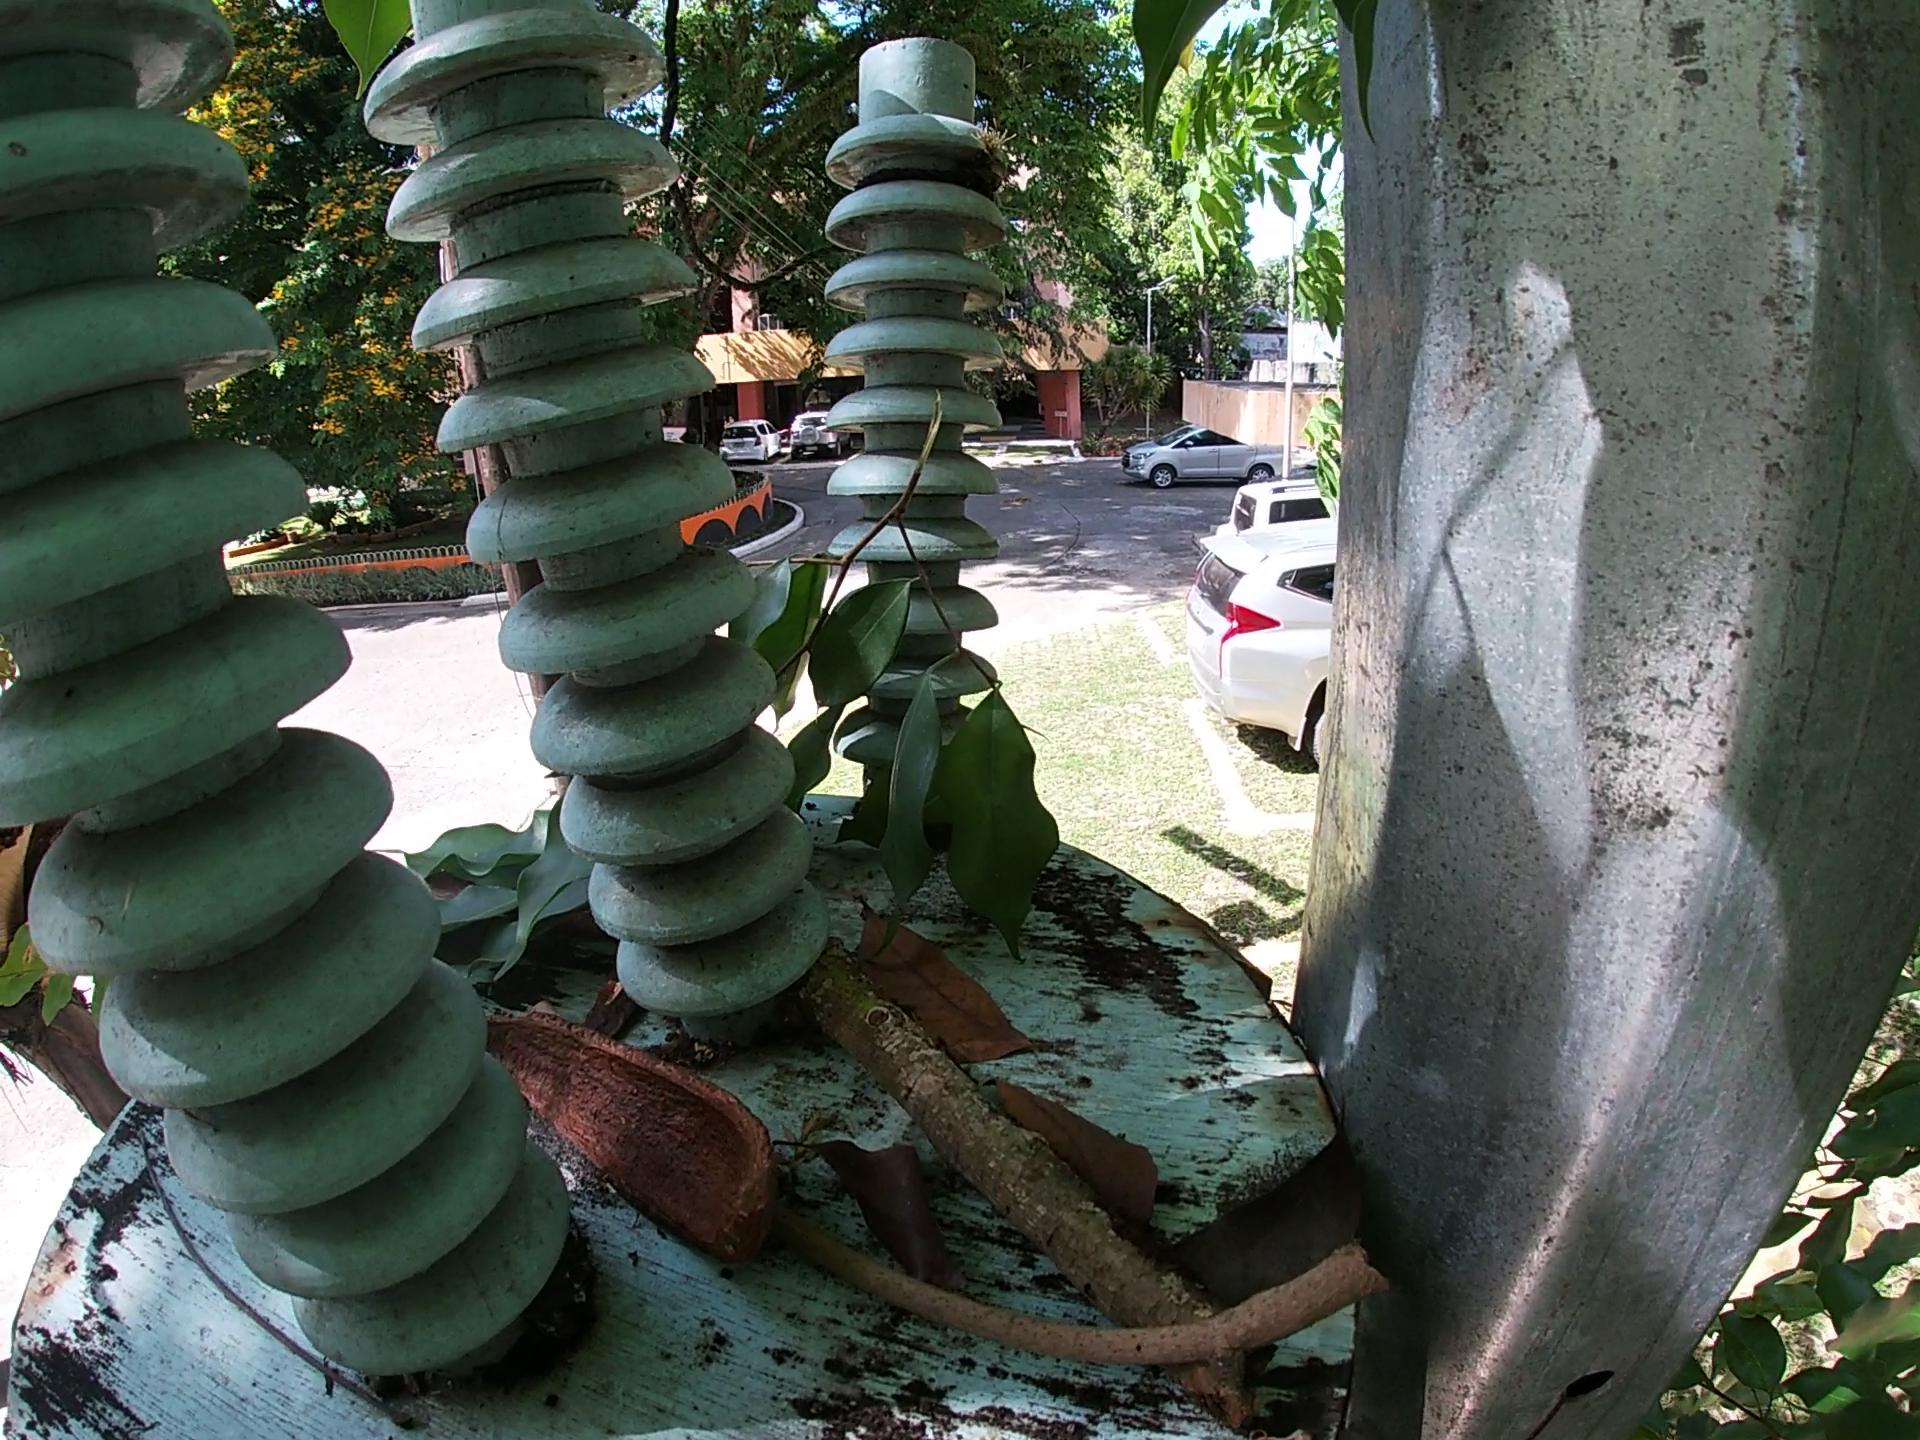branch with leaves: (708, 387, 1066, 985)
leaf: (379, 779, 612, 979), (853, 871, 1058, 1080), (1172, 1103, 1364, 1305), (785, 1122, 983, 1277), (992, 1072, 1164, 1227)
mahogany fruit: (472, 992, 779, 1266)
tree branch: (776, 920, 1276, 1417), (779, 1195, 1409, 1364), (130, 1137, 441, 1437)
